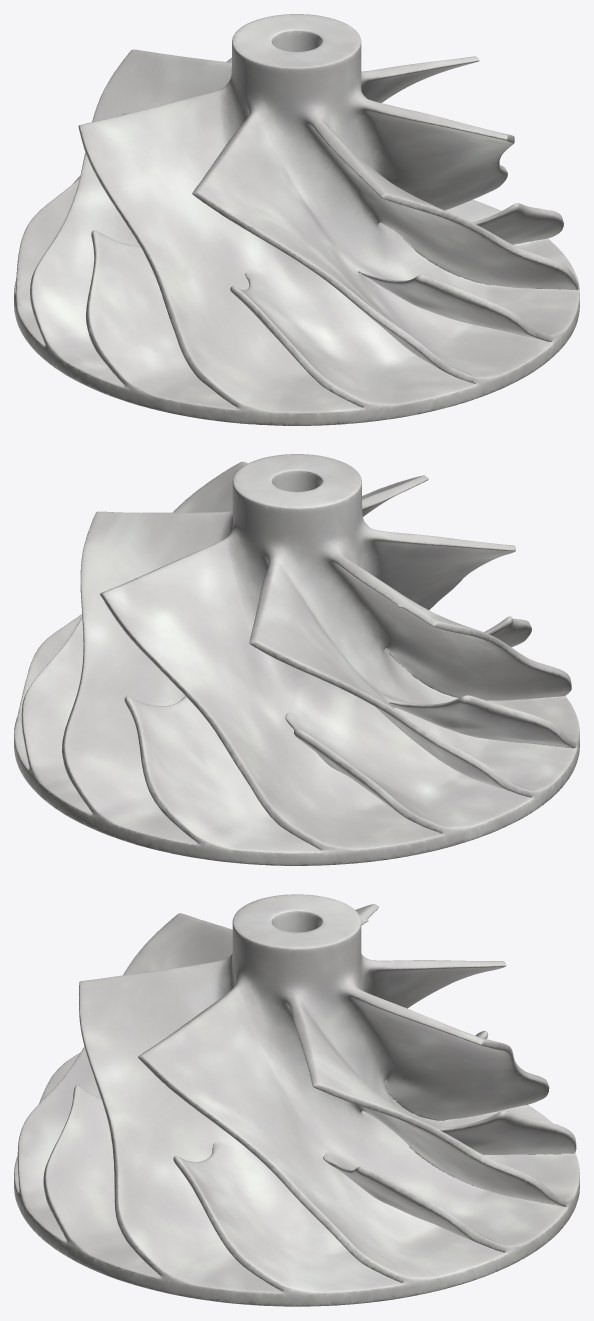
The model's file is 00_turboblade_symtrellis.glb.
The picture shows the model from 3 angles, top to bottom: view 1: azimuth 30°, elevation 25°; view 2: azimuth 150°, elevation 25°; view 3: azimuth 270°, elevation 25°; orthographic projection.
Visible parts, largest first — view 1: world; view 2: world; view 3: world.
Boxes of the visible parts, bbox=[...] form: world: bbox=[14, 14, 579, 425]; world: bbox=[14, 454, 579, 865]; world: bbox=[14, 894, 579, 1306].
Size of the model in its own units: 1 by 0.5209 by 1.
Materials: 1 (1 with a texture image).
